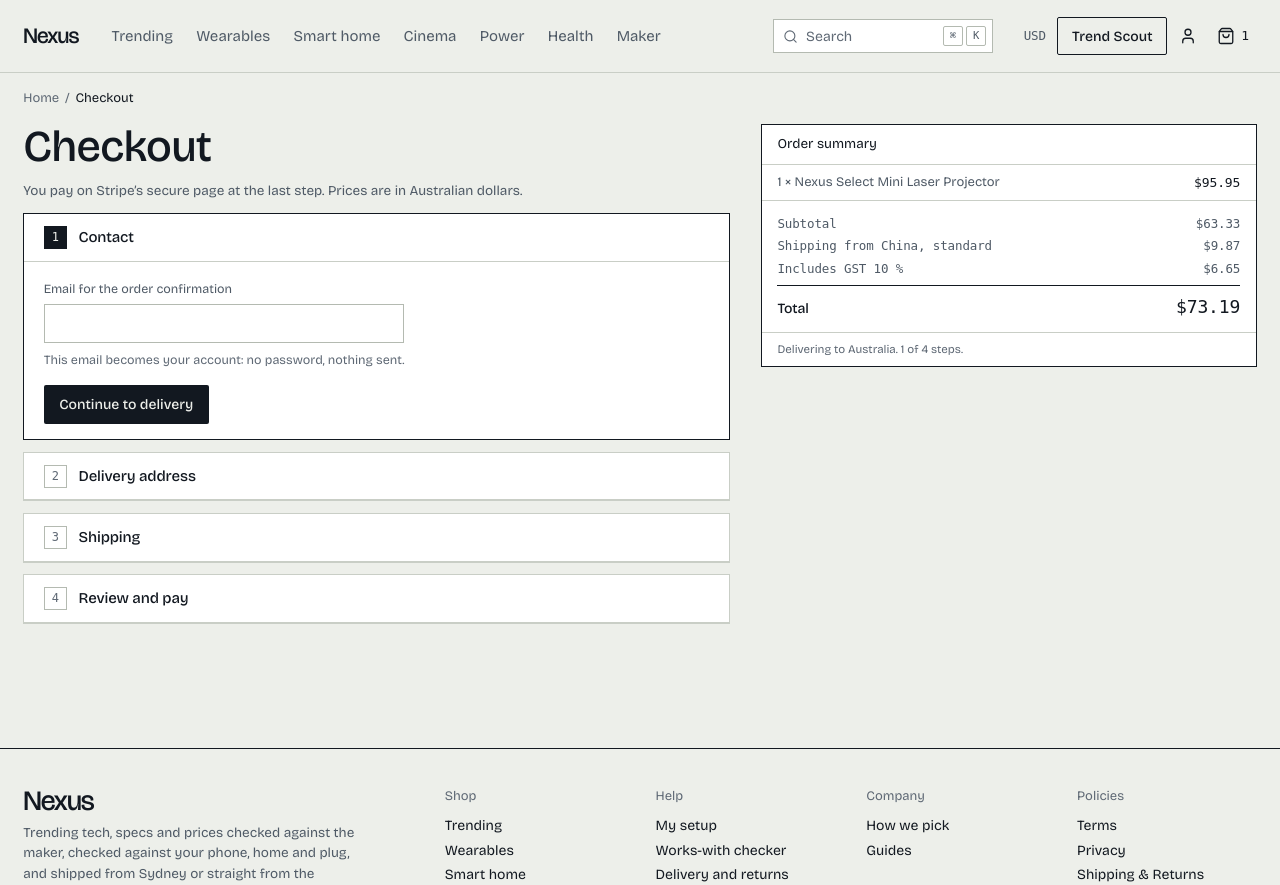
Scenario: office checkout › the office checkout requires a phone number for the carrier
The width and height of the screenshot is (1280, 885).
In the field labelled "Email for the order confirmation": (224, 324) x1=44 y1=304 x2=404 y2=343, type "nick@example.com"
Click the button "Continue to delivery": click(126, 404) x1=44 y1=385 x2=209 y2=424
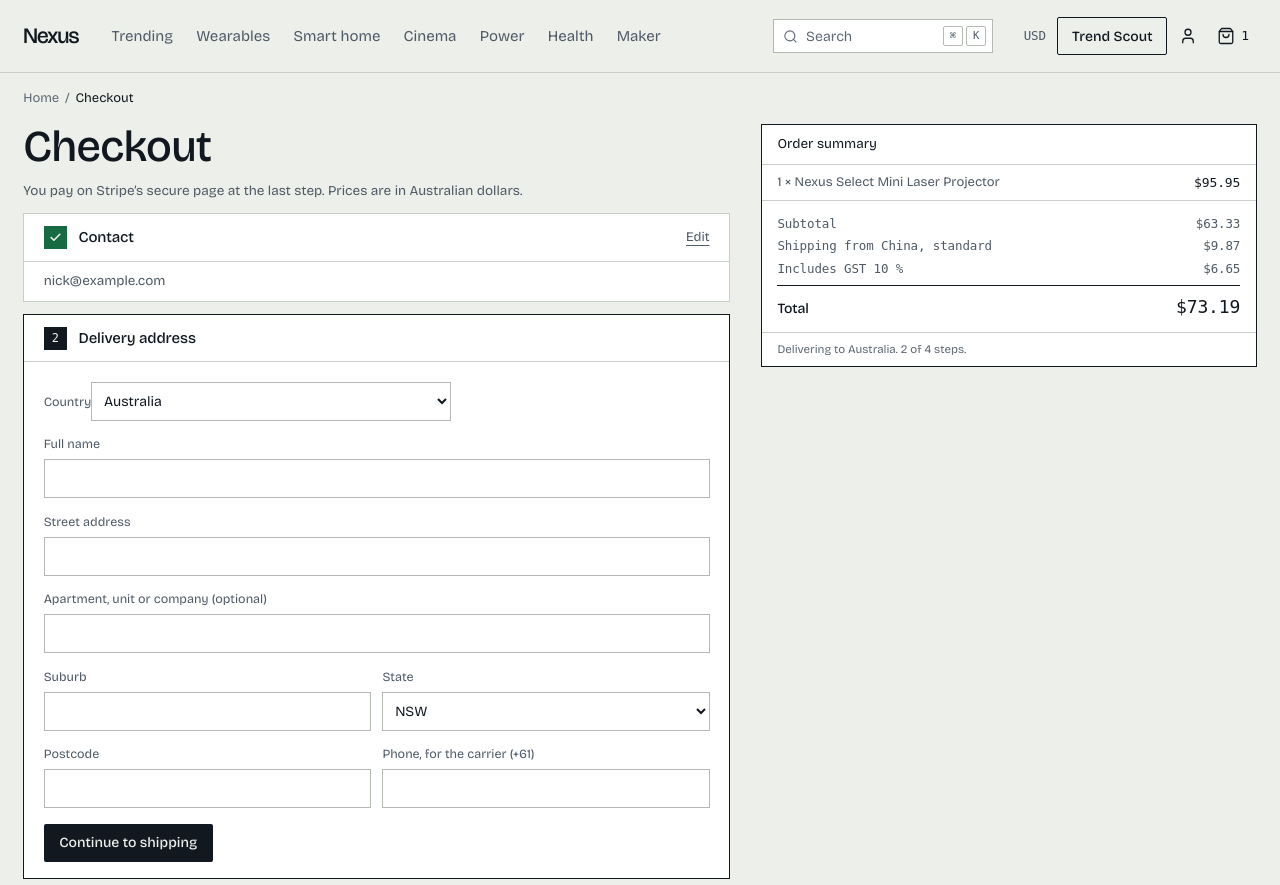
Expected: the text "optional" is not shown
In the field labelled "Full name": (377, 479) x1=44 y1=459 x2=710 y2=498, type "Nick M"
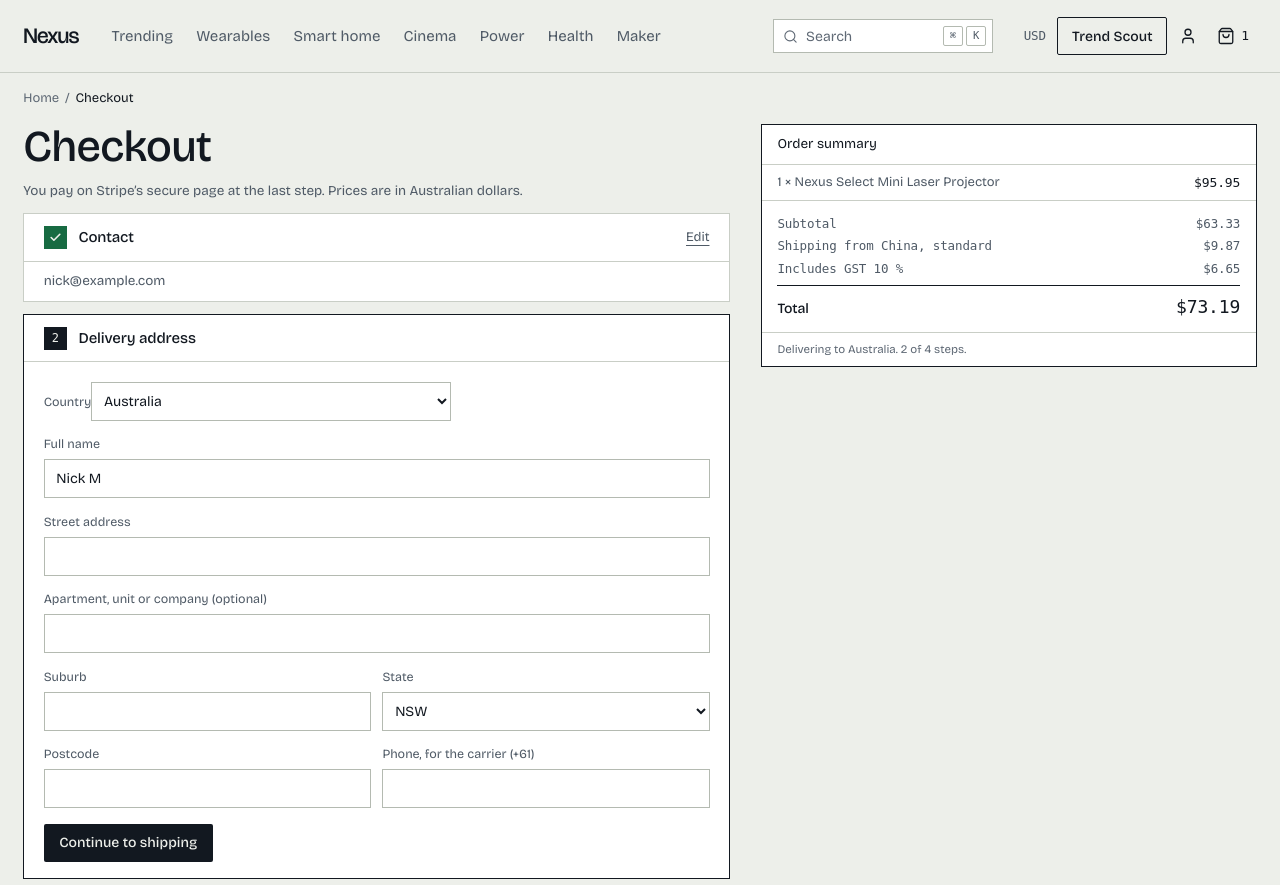
In the field labelled "Street address": (377, 556) x1=44 y1=537 x2=710 y2=576, type "1 Test St"
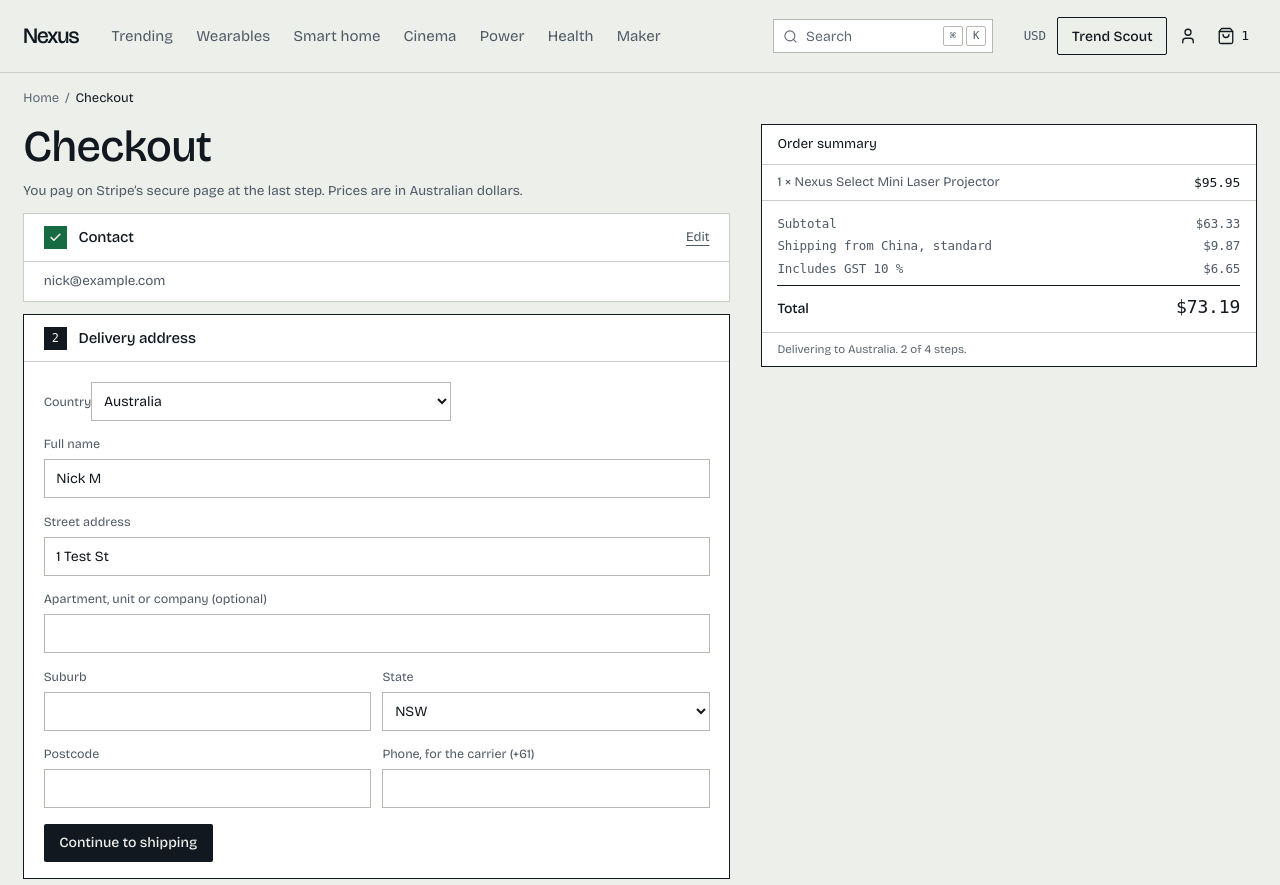
In the field labelled "Suburb": (207, 711) x1=44 y1=692 x2=371 y2=731, type "Sydney"
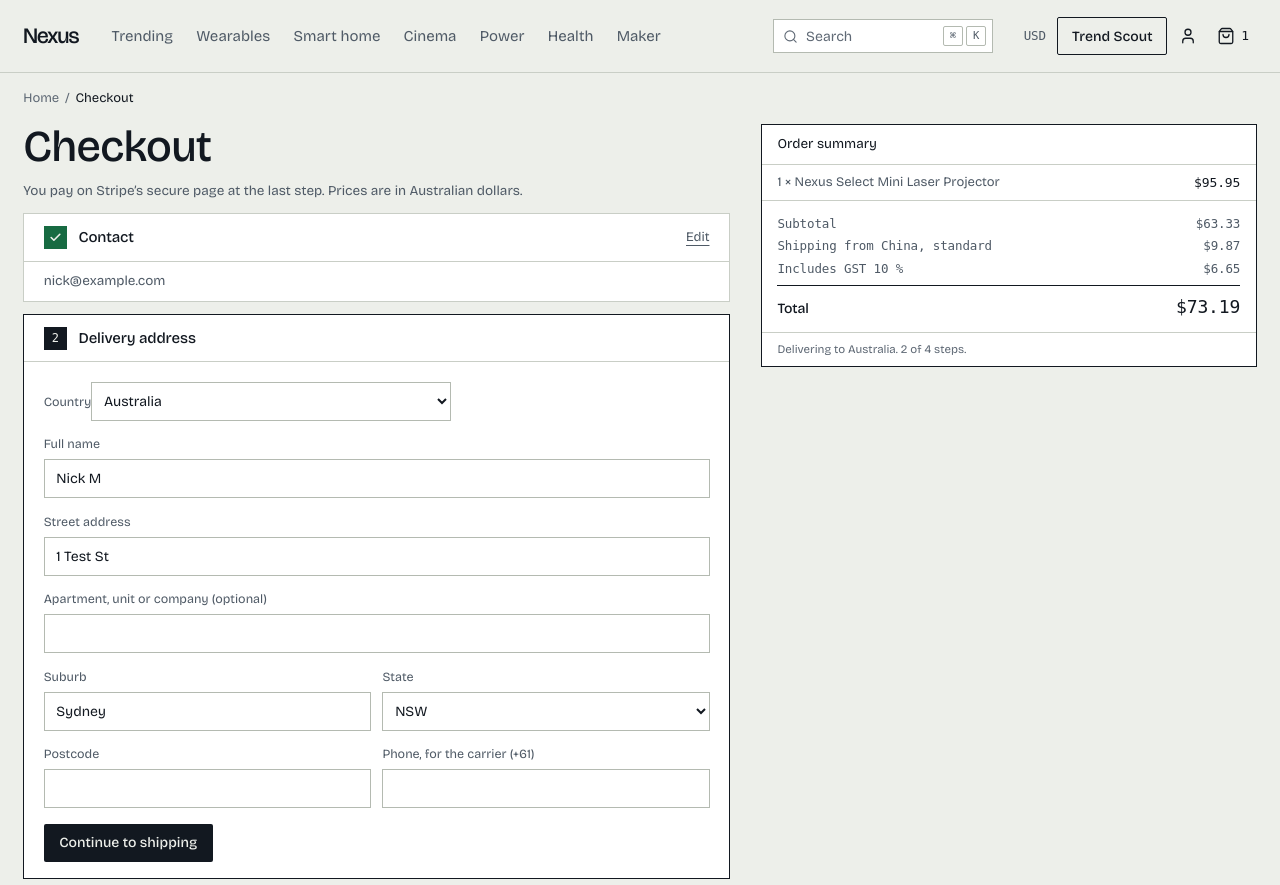
In the field labelled "Postcode": (207, 789) x1=44 y1=769 x2=371 y2=808, type "2000"
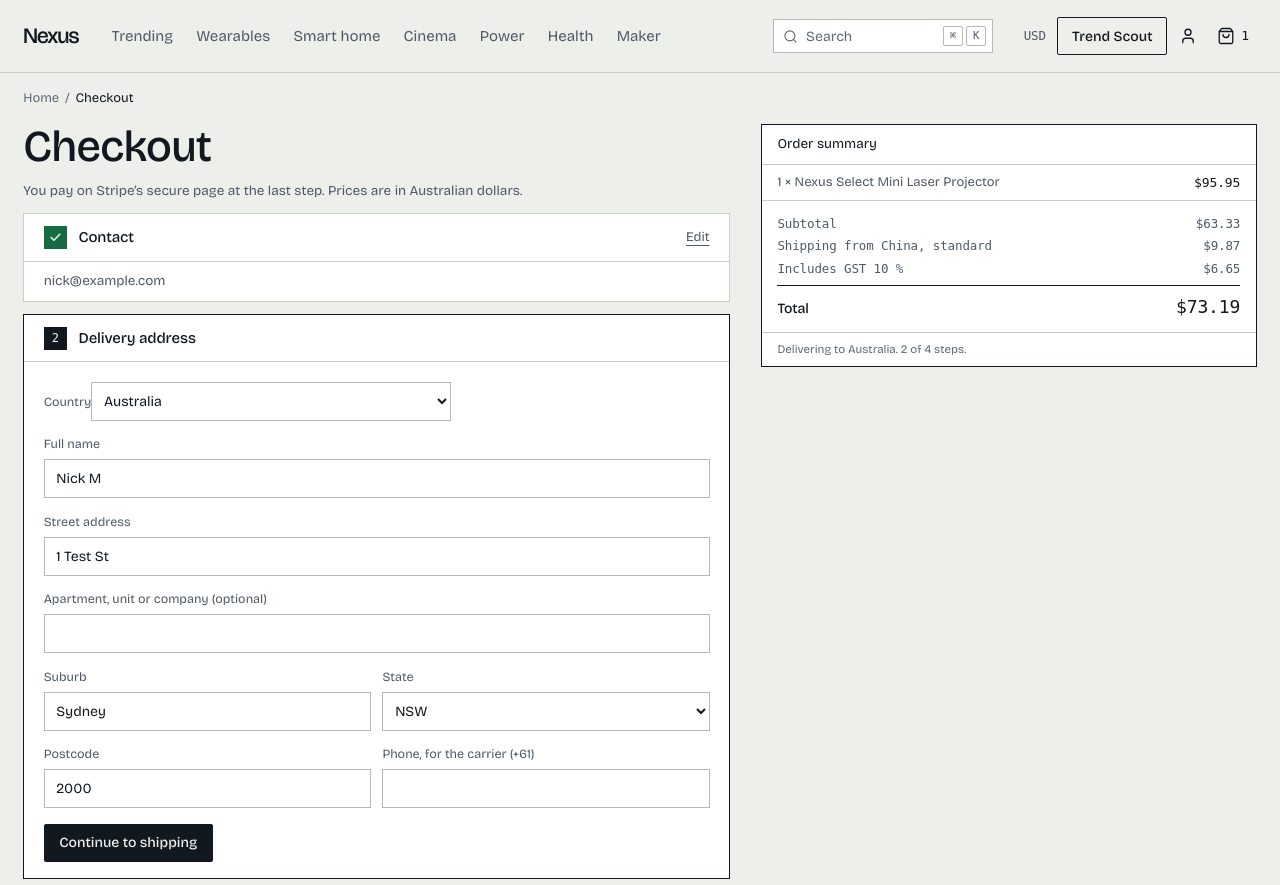
Click the button "Continue to shipping": click(128, 843) x1=44 y1=824 x2=213 y2=862
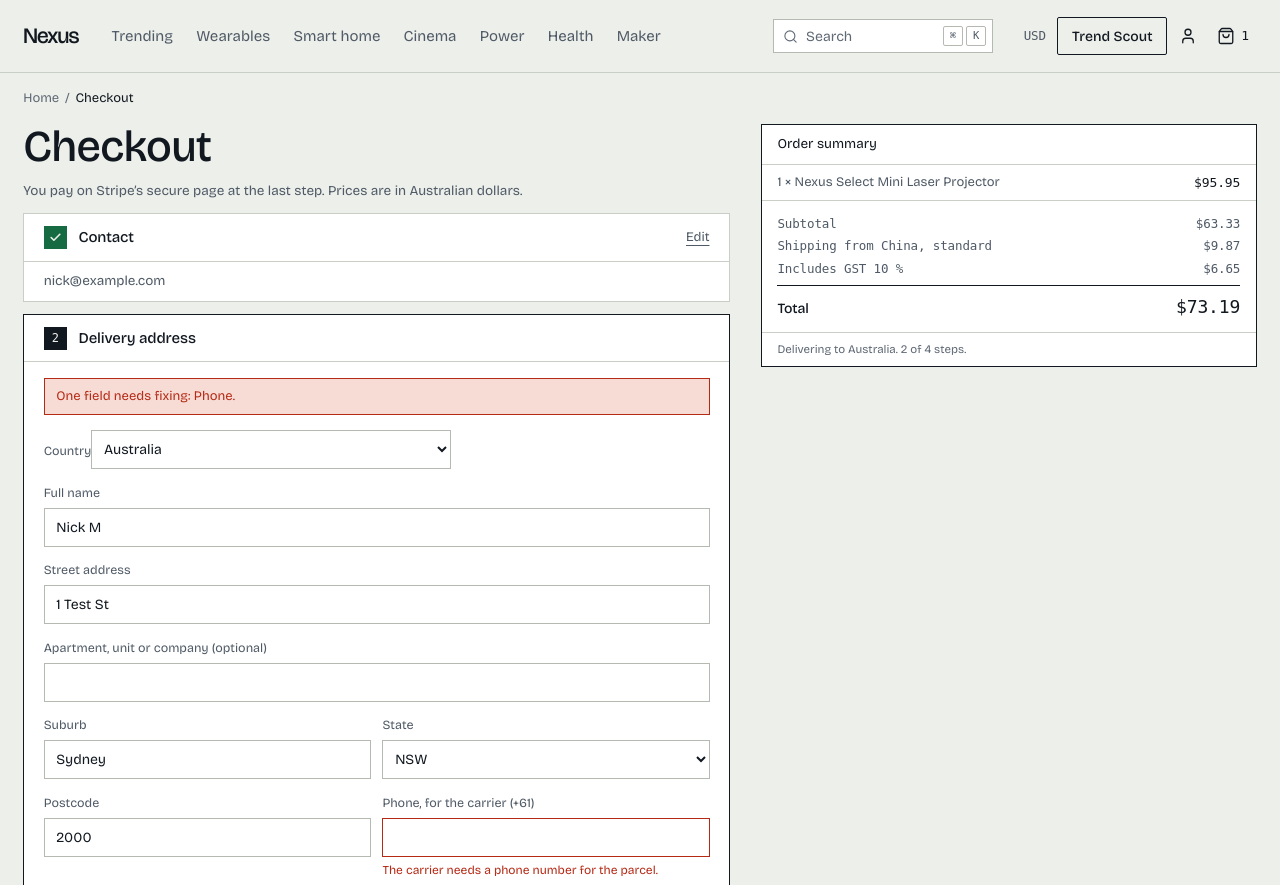
Expected: the message shows "Phone", x1=56 y1=388 x2=235 y2=404
